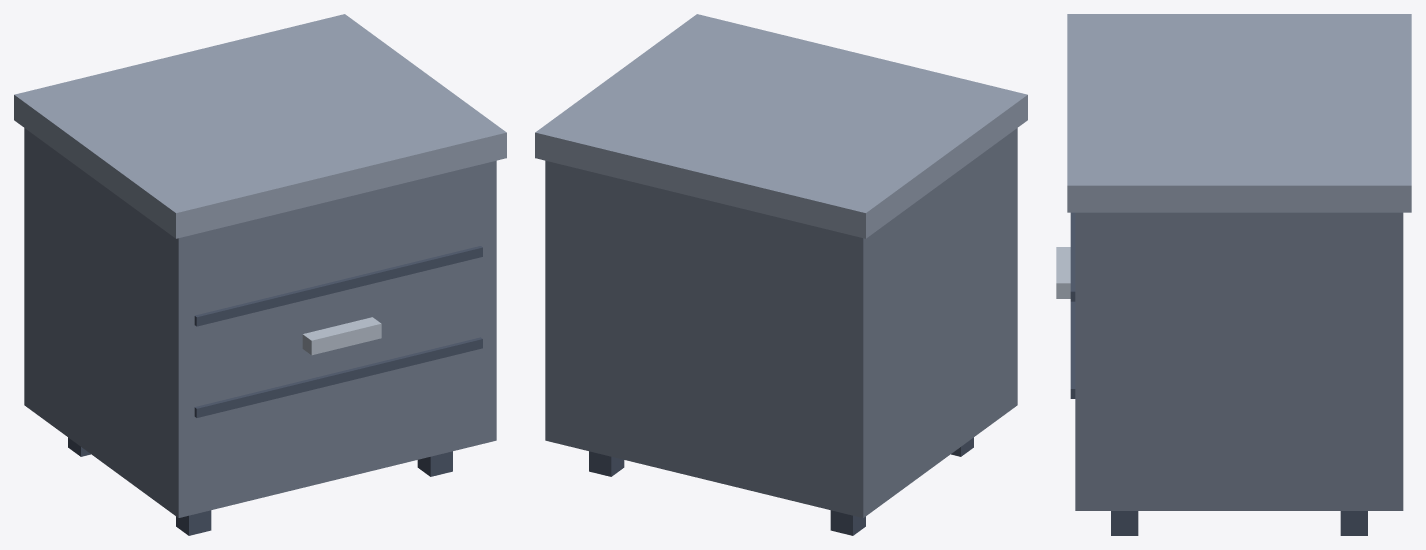
The model's file is nightstand.glb.
3 views of the same model, side by side, from view 1: azimuth 30°, elevation 25°; view 2: azimuth 150°, elevation 25°; view 3: azimuth 270°, elevation 25° (orthographic). The views are drawn at different scales.
Parts seen in each view (by area): view 1: nightstand; view 2: nightstand; view 3: nightstand.
Part boxes in pixels (<box>): nightstand: <box>14,14,506,535</box>; nightstand: <box>535,14,1027,535</box>; nightstand: <box>1056,14,1411,535</box>.
Size of the model in its own units: 0.52 by 0.5198 by 0.4549.
